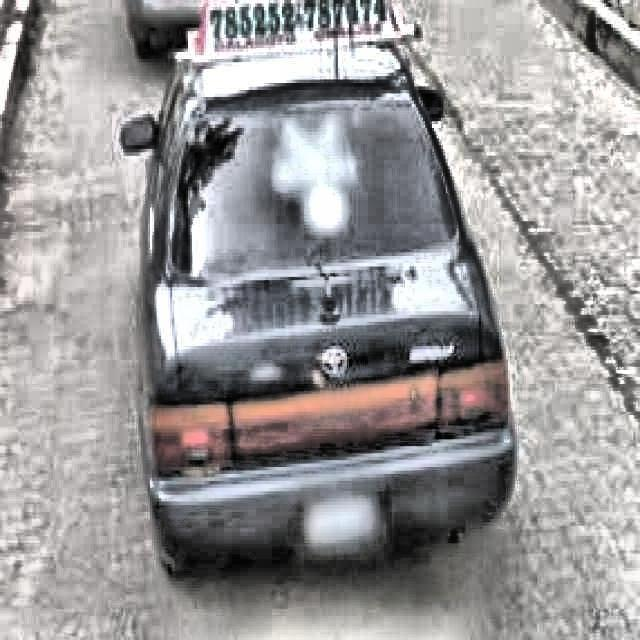carro: (121, 9, 522, 612)
